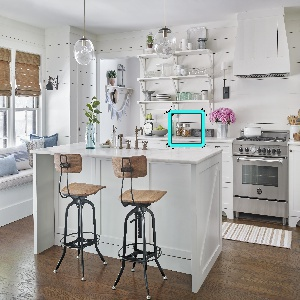square: (166, 108, 207, 150)
